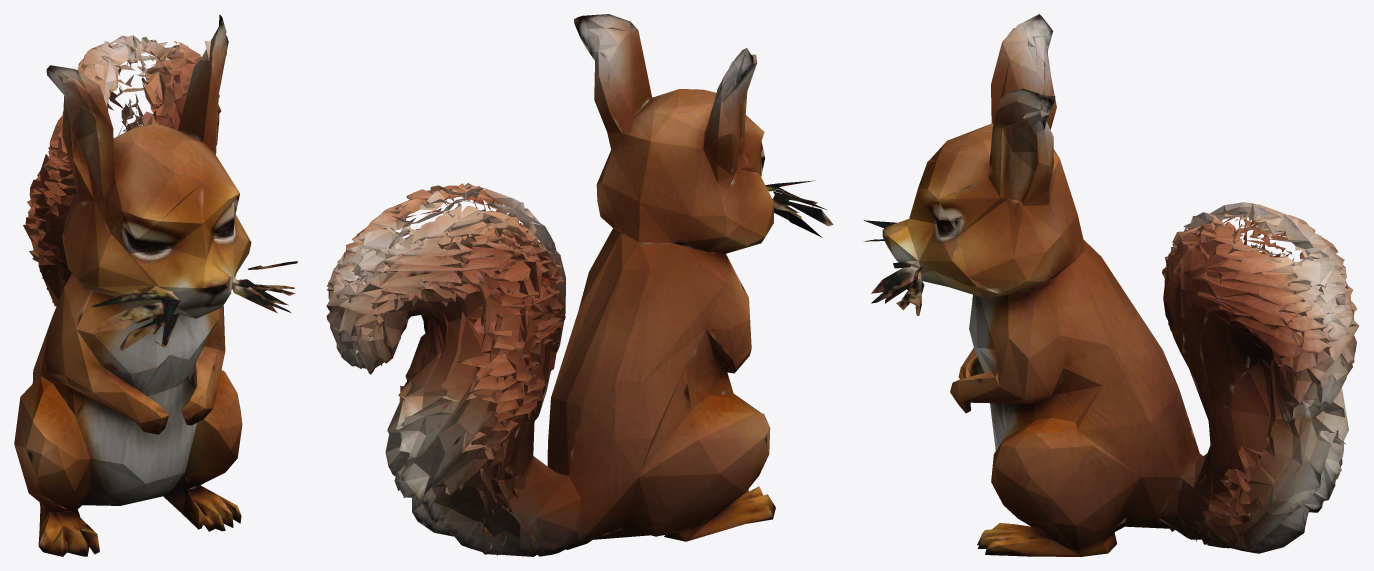
File: squirrel.glb
3 renders of one model, left to right at view 1: azimuth 30°, elevation 25°; view 2: azimuth 150°, elevation 25°; view 3: azimuth 270°, elevation 25°, orthographic. The views are drawn at different scales.
Parts seen in each view (by area): view 1: geometry_0; view 2: geometry_0; view 3: geometry_0.
Boxes of the visible parts, left/top/right/bottom form: geometry_0: left=14, top=14, right=297, bottom=556; geometry_0: left=326, top=14, right=833, bottom=556; geometry_0: left=863, top=14, right=1359, bottom=556.
Size of the model in its own units: 0.6935 by 0.9993 by 0.9589.
Materials: 1 (1 with a texture image).
